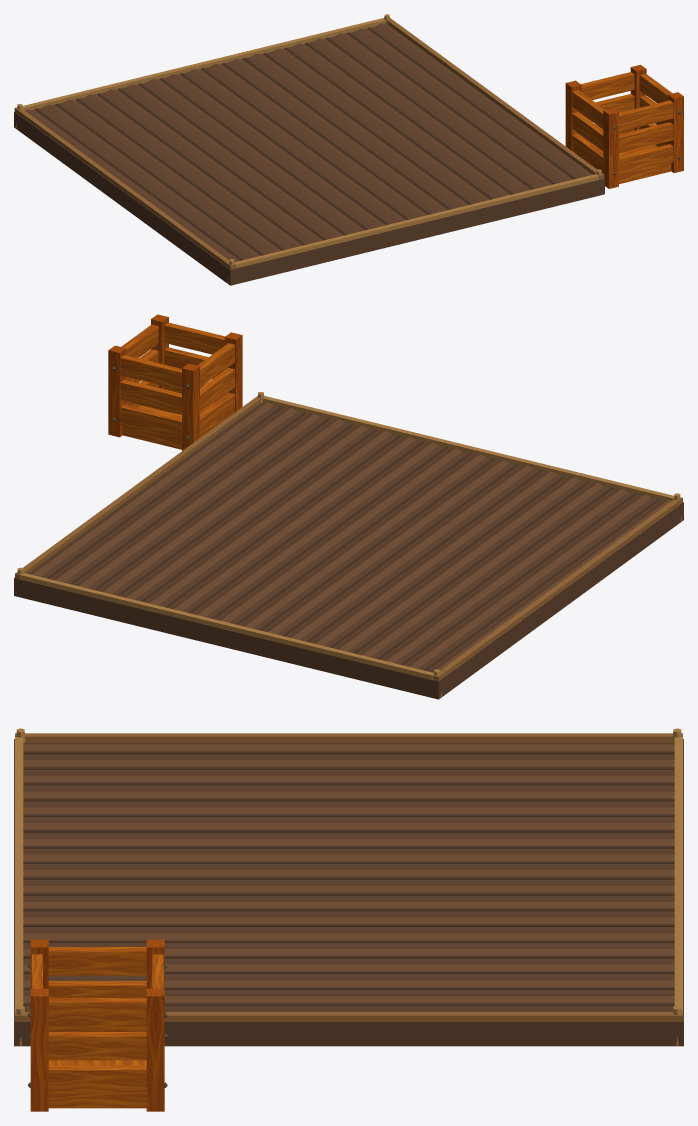
The model's file is farm-large-with-box.gltf.
3 views of the same model, one above another, from view 1: azimuth 30°, elevation 25°; view 2: azimuth 150°, elevation 25°; view 3: azimuth 270°, elevation 25° (orthographic). The views are drawn at different scales.
Visible parts, largest first — view 1: farm-large-with-box; view 2: farm-large-with-box; view 3: farm-large-with-box.
Part boxes in pixels (bbox=[...]): farm-large-with-box: bbox=[14, 14, 683, 285]; farm-large-with-box: bbox=[14, 314, 683, 699]; farm-large-with-box: bbox=[14, 728, 683, 1111].
Bounding box in the file's own units: 4.91 × 0.759 × 4.
2 materials, 1 textured.
